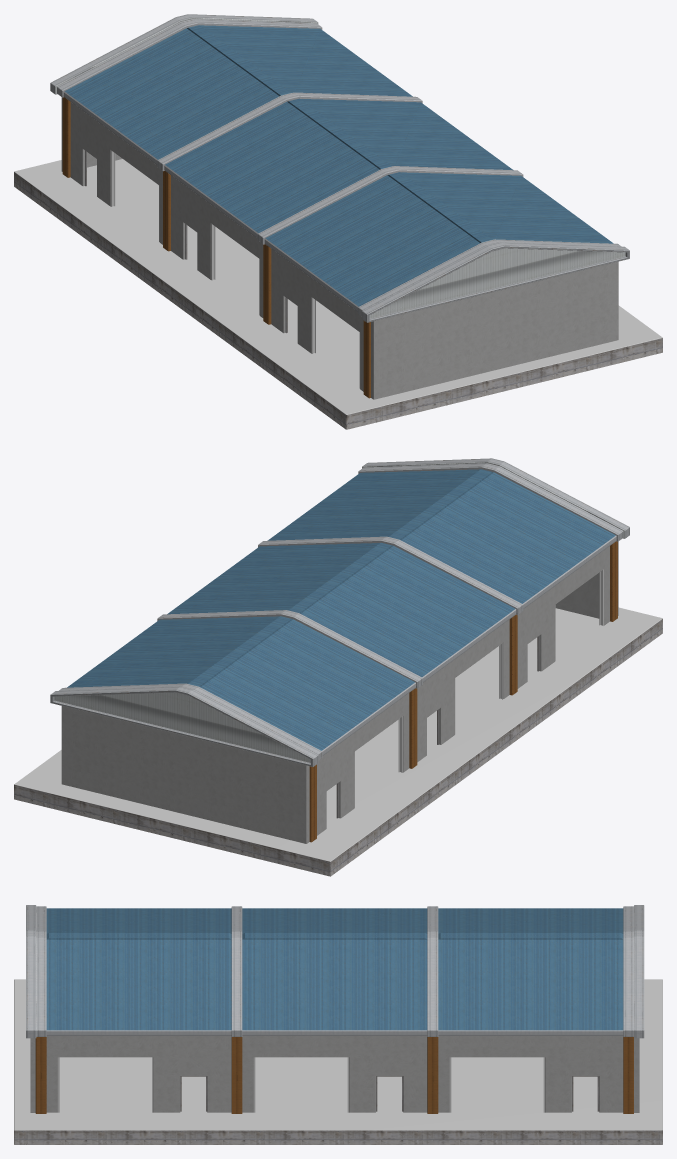
File: WareHouse02Extended.fbx
3 views of the same model, one above another, from view 1: azimuth 30°, elevation 25°; view 2: azimuth 150°, elevation 25°; view 3: azimuth 270°, elevation 25° (orthographic). The views are drawn at different scales.
Visible parts, largest first — view 1: WareHouse02ExtendedLOD0; view 2: WareHouse02ExtendedLOD0; view 3: WareHouse02ExtendedLOD0.
Part boxes in pixels (x1,y1,x2,y2): WareHouse02ExtendedLOD0: [14, 14, 662, 429]; WareHouse02ExtendedLOD0: [14, 458, 662, 876]; WareHouse02ExtendedLOD0: [14, 905, 662, 1144].
Size of what is drawn, in the model's own units: 22 by 9.24 by 40.
